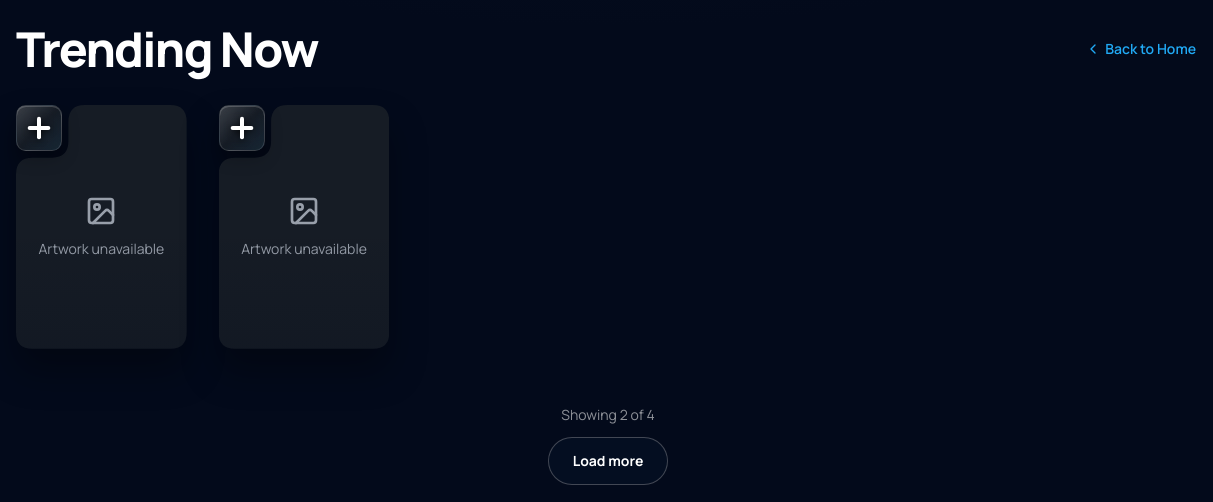
Scenario: BrowseExperience › shows the first page, then appends the next page on Load more until none is left
The image size is (1213, 502).
Expected: the link with aria-label "View details for Movie 1" is shown, [16,105,187,349]
Expected: the heading reads "Trending Now", [16,16,318,81]
Step 1. Click the button "Load more" → click(608, 461), box [548,437,668,485]
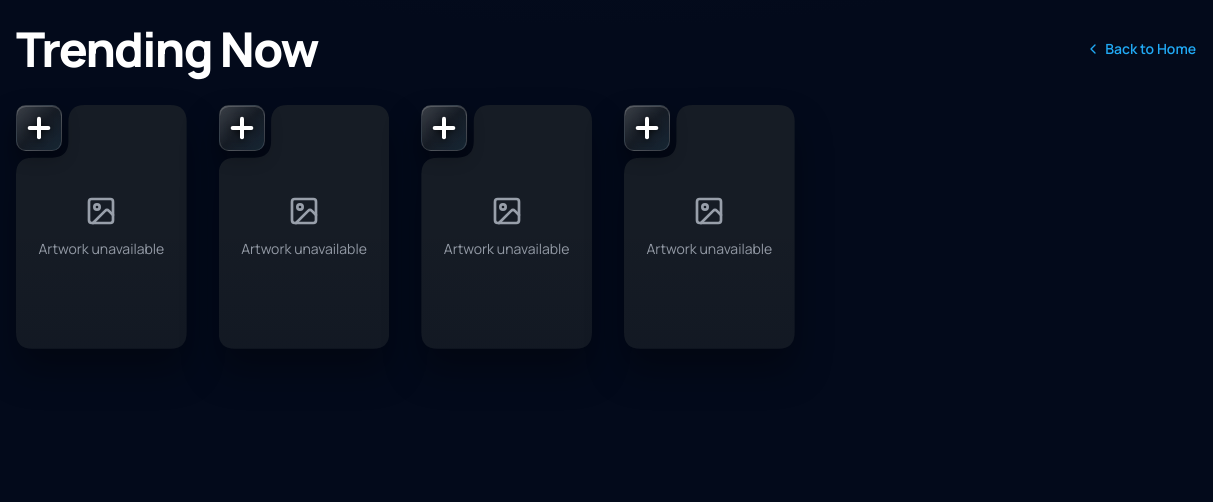
Expected: the link with aria-label "View details for Movie 1" is shown, [16,105,187,349]
Expected: the link with aria-label "View details for Movie 4" is shown, [624,105,795,349]
Expected: the button "Load more" is gone
